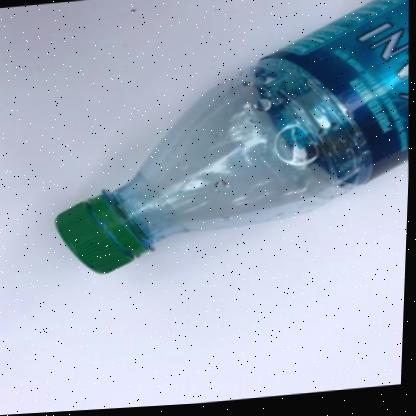Plastic: (57, 0, 409, 273)
